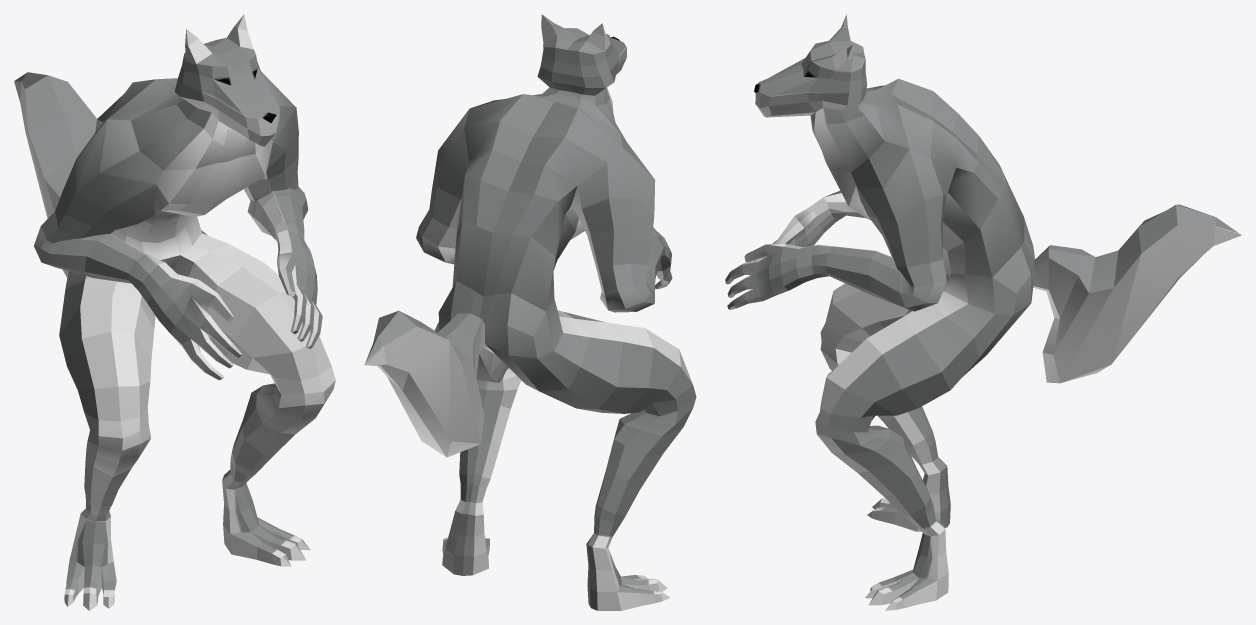
The model's file is WolfIdle_(139).obj.
3 renders of one model, left to right at view 1: azimuth 30°, elevation 25°; view 2: azimuth 150°, elevation 25°; view 3: azimuth 270°, elevation 25°, orthographic. The views are drawn at different scales.
Parts seen in each view (by area): view 1: Box001; view 2: Box001; view 3: Box001.
Part boxes in pixels (x1=…): Box001: x1=14, y1=14, x2=335, y2=610; Box001: x1=364, y1=14, x2=696, y2=610; Box001: x1=725, y1=14, x2=1241, y2=610.
Bounding box in the file's own units: 61.22 × 131 × 115.
